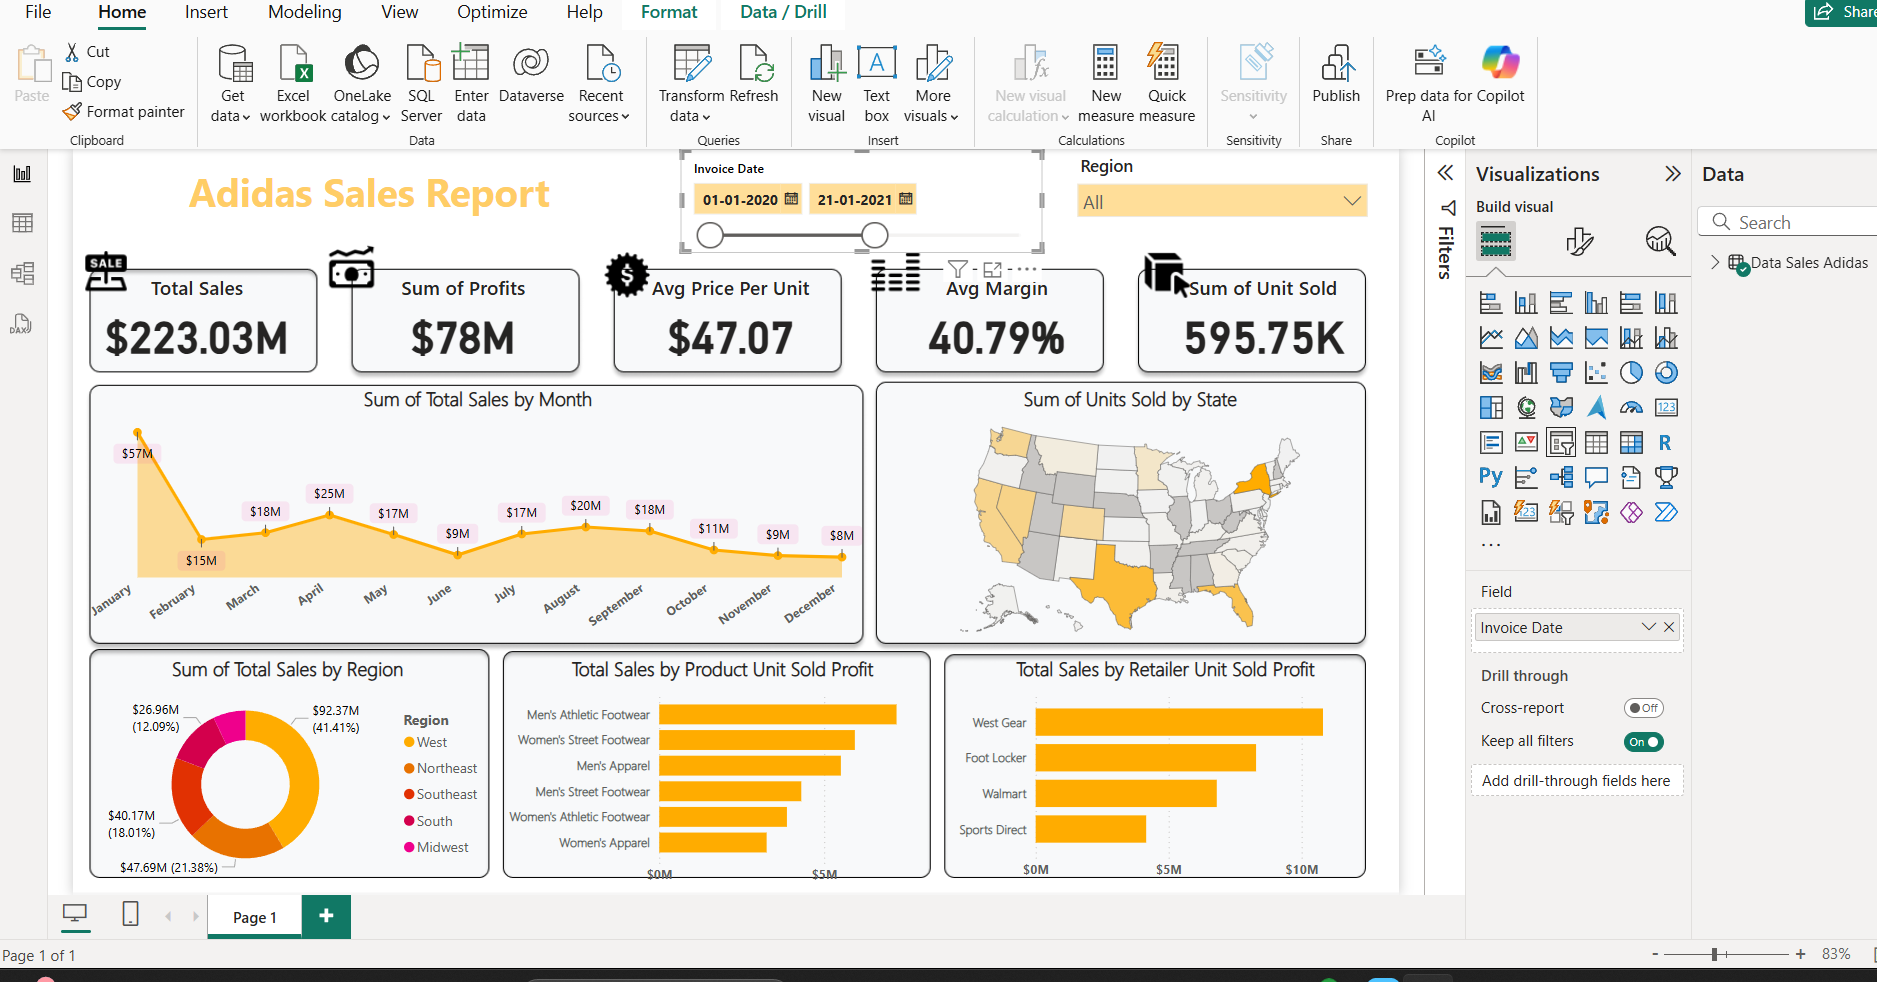

Layout of this report page (visuals, bound fields, positions):
{"tool":"powerbi","page":{"name":"Page 1","canvas":[1280,720],"ordinal":0},"visuals":[{"type":"card","title":"Total Sales","fields":{"Values":["Sum(Data Sales Adidas.Total Sales)"]},"box":[10,116.2,220,100],"z":0},{"type":"card","title":"Sum of Profits","fields":{"Values":["Sum(Data Sales Adidas.Operating Profit)"]},"box":[267.2,116.2,220,100],"z":1000},{"type":"card","title":"Sum of Unit Sold","fields":{"Values":["Sum(Data Sales Adidas.Units Sold)"]},"box":[1038.8,116.2,220,100],"z":2000},{"type":"card","title":"Avg Price Per Unit","fields":{"Values":["Avg(Data Sales Adidas.Price per Unit)"]},"box":[524.4,116.2,220,100],"z":3000},{"type":"card","title":"Avg Margin","fields":{"Values":["Avg(Data Sales Adidas.Operating Margin)"]},"box":[781.6,116.2,220,100],"z":4000},{"type":"barChart","title":"Total Sales by Retailer Unit Sold Profit","fields":{"Category":["Data Sales Adidas.Retailer"],"Y":["Sum(Data Sales Adidas.Total Sales)"]},"box":[848.8,488.8,410,225],"z":5000},{"type":"barChart","title":"Total Sales by Product Unit Sold Profit","fields":{"Category":["Data Sales Adidas.Product"],"Y":["Sum(Data Sales Adidas.Total Sales)"]},"box":[415,488.8,423.8,230],"z":6000},{"type":"donutChart","fields":{"Y":["Sum(Data Sales Adidas.Total Sales)"],"Category":["Data Sales Adidas.Region"]},"box":[10,488.8,395,225],"z":7000},{"type":"areaChart","fields":{"Category":["Data Sales Adidas.Invoice Date.Variation.Date Hierarchy.Month"],"Y":["Sum(Data Sales Adidas.Total Sales)"]},"box":[10,227.5,762.5,253.8],"z":8000},{"type":"slicer","fields":{"Values":["Data Sales Adidas.Region"]},"box":[958.8,0,300,100],"z":9000},{"type":"slicer","title":"date","fields":{"Values":["Data Sales Adidas.Invoice Date"]},"box":[586.2,0,350,100],"z":10000},{"type":"shapeMap","fields":{"Value":["Sum(Data Sales Adidas.Units Sold)"],"Category":["Data Sales Adidas.State"]},"box":[781.2,227.5,477.5,253.8],"z":11000},{"type":"textbox","box":[9.7,10.9,552.5,78.4],"z":12000}]}

Visuals, with their boxes on the page's 1280x720 design canvas (x1, y1, x2, y2). These are canvas units, not pixel positions in the 1877x982 screenshot, which may show the page scaled, cropped or inside an application window:
"Total Sales" card: l=10, t=116, r=230, b=216
"Sum of Profits" card: l=267, t=116, r=487, b=216
"Sum of Unit Sold" card: l=1039, t=116, r=1259, b=216
"Avg Price Per Unit" card: l=524, t=116, r=744, b=216
"Avg Margin" card: l=782, t=116, r=1002, b=216
"Total Sales by Retailer Unit Sold Profit" barChart: l=849, t=489, r=1259, b=714
"Total Sales by Product Unit Sold Profit" barChart: l=415, t=489, r=839, b=719
donutChart - Sum(Data Sales Adidas.Total Sales) x Data Sales Adidas.Region: l=10, t=489, r=405, b=714
areaChart - Data Sales Adidas.Invoice Date.Variation.Date Hierarchy.Month x Sum(Data Sales Adidas.Total Sales): l=10, t=228, r=772, b=481
slicer - Data Sales Adidas.Region: l=959, t=0, r=1259, b=100
"date" slicer: l=586, t=0, r=936, b=100
shapeMap - Sum(Data Sales Adidas.Units Sold) x Data Sales Adidas.State: l=781, t=228, r=1259, b=481
textbox: l=10, t=11, r=562, b=89
